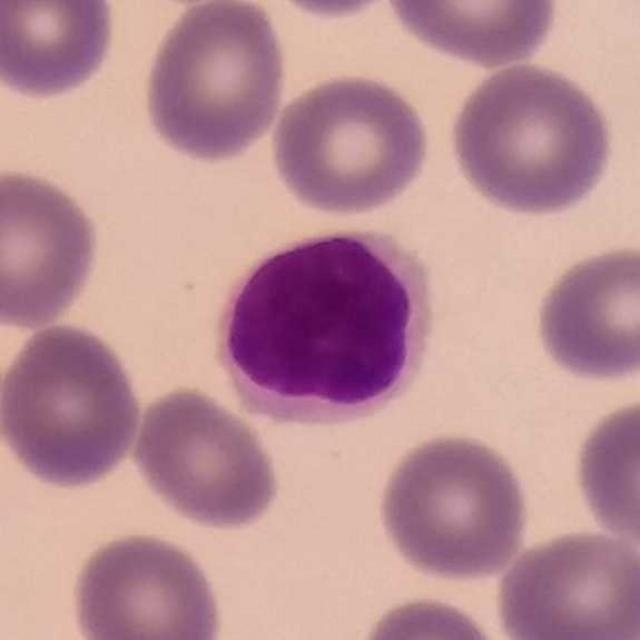Lymphocyte: (207, 222, 440, 429)
RBC: (445, 58, 618, 218), (137, 0, 292, 167), (0, 318, 146, 493), (266, 69, 435, 220), (373, 428, 533, 584), (129, 383, 284, 533), (67, 527, 226, 640), (0, 163, 106, 330), (491, 525, 640, 640), (528, 240, 640, 387), (0, 0, 120, 104), (382, 0, 562, 69), (569, 393, 640, 553), (352, 591, 511, 640), (253, 0, 407, 22)
